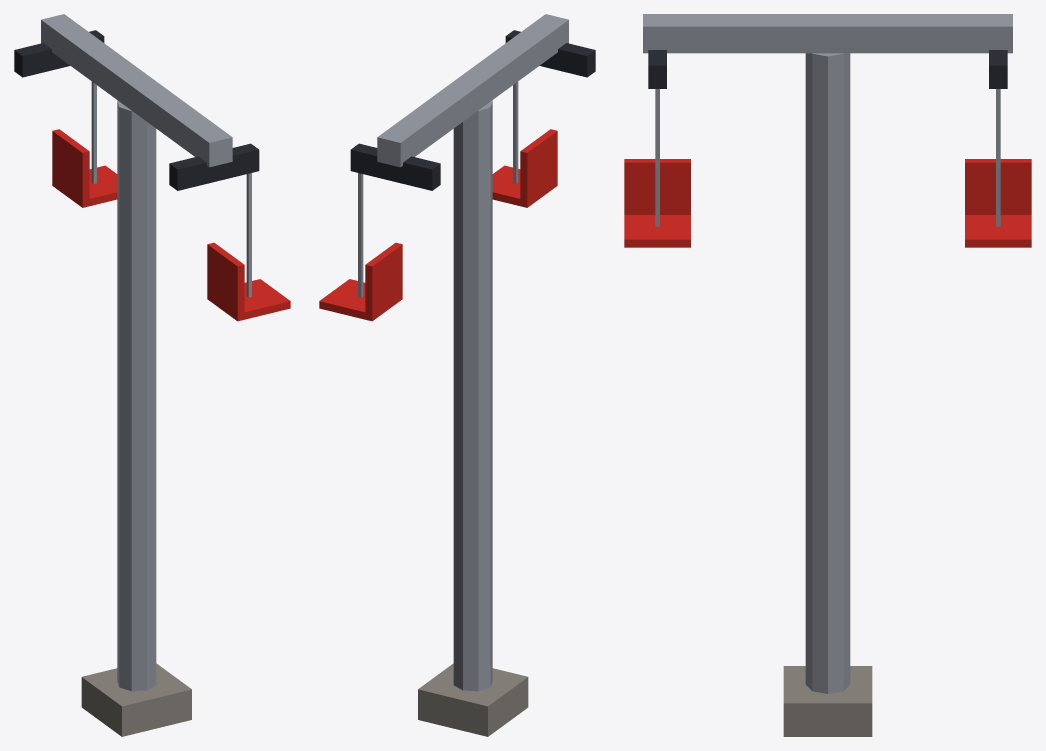
Rendered from telesilla_torre.obj.
3 views of the same model, side by side, from view 1: azimuth 30°, elevation 25°; view 2: azimuth 150°, elevation 25°; view 3: azimuth 270°, elevation 25° (orthographic). The views are drawn at different scales.
Visible parts, largest first — view 1: telesilla_torre; view 2: telesilla_torre; view 3: telesilla_torre.
Part boxes in pixels (x1,y1,x2,y2): telesilla_torre: [14, 14, 290, 736]; telesilla_torre: [319, 14, 595, 736]; telesilla_torre: [624, 14, 1031, 736].
Bounding box in the file's own units: 1.75 × 10.4 × 5.5.
